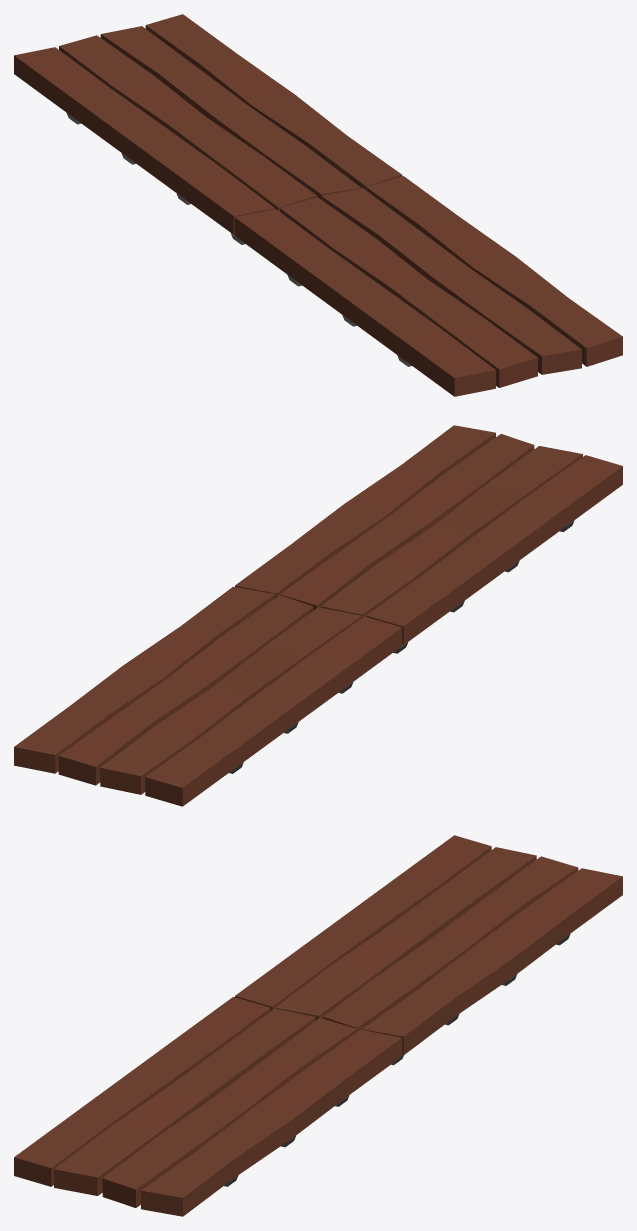
Rendered from WoodWalkway(M).fbx.
The picture shows the model from 3 angles, top to bottom: view 1: azimuth 30°, elevation 25°; view 2: azimuth 150°, elevation 25°; view 3: azimuth 330°, elevation 25°; orthographic projection.
Parts seen in each view (by area): view 1: Cube; view 2: Cube; view 3: Cube.
Boxes of the visible parts, box(x1,y1,x2,y2) form: Cube: box(14, 14, 622, 396); Cube: box(14, 425, 622, 806); Cube: box(14, 835, 622, 1216).
Bounding box in the file's own units: 270 × 39.37 × 1214.
